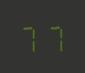seven: (19, 20, 41, 53), (42, 20, 64, 52)
